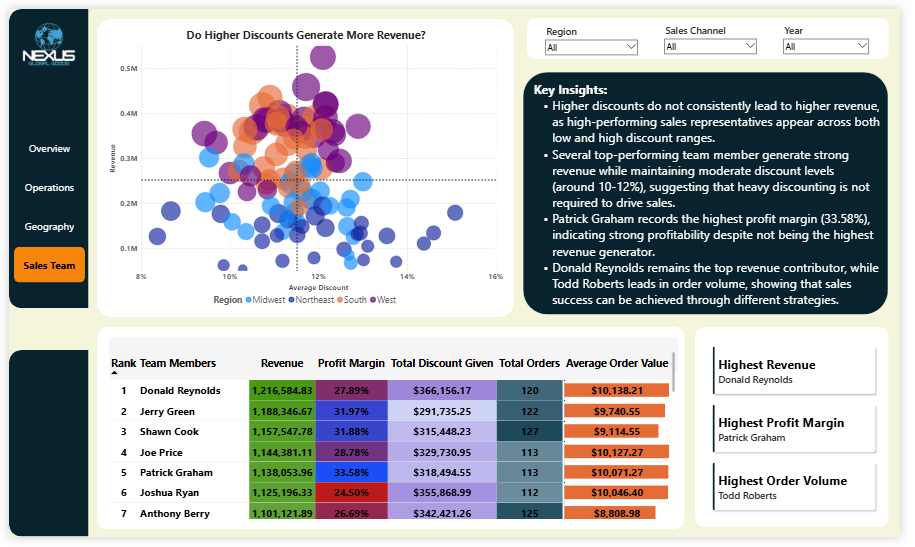

This screenshot's page, from the dashboard's own definition file:
{"tool":"powerbi","page":{"name":"Sales Team","canvas":[2700,1600],"ordinal":3},"visuals":[{"type":"shape","title":"Side Bar","box":[0,1034.5,241.4,565.5],"z":0},{"type":"shape","title":"Side Bar","box":[0,0,241.4,906.9],"z":1000},{"type":"shape","title":"Background","box":[241.4,0,2458.6,1600],"z":2000},{"type":"image","title":"Company Logo","box":[0,0,242.5,240],"z":3000},{"type":"pageNavigator","box":[15,367.5,215,462.5],"z":4000},{"type":"shape","title":"Middle Card","box":[267.7,29,1264.5,903.2],"z":5000},{"type":"scatterChart","title":"Do Higher Discounts Generate More Revenue?","fields":{"Category":["Dim Sales Order._SalesTeamID"],"Series":["Dim Region.Region"],"X":["Metric Measures.Average Discount"],"Y":["Metric Measures.Revenue"],"Size":["Metric Measures.Profit"]},"box":[296.8,54.8,1206.5,851.6],"z":6000},{"type":"shape","title":"Middle Card","box":[267.7,964.5,1780.6,612.9],"z":7000},{"type":"shape","title":"Middle Card","box":[303.2,993.5,1725.8,106.5],"z":8000},{"type":"shape","title":"Middle Card","box":[2077.4,964.5,587.1,606.5],"z":9000},{"type":"tableEx","fields":{"Values":["Metric Measures.Revenue Rank","Dim Sales Team.Sales Team","Metric Measures.Revenue","Metric Measures.Profit Margin","Metric Measures.Total Discount Given","Metric Measures.Total Orders","Metric Measures.Average Order Value"]},"box":[296.8,1032.3,1725.8,516.1],"z":10000},{"type":"cardVisual","fields":{"Data":["Metric Measures.Highest Revenue Member","Metric Measures.Highest Profit Margin","Metric Measures.Highest Order Volume"]},"box":[2103.2,993.5,551.6,554.8],"z":11000},{"type":"shape","title":"Middle Card","box":[1558.1,190.8,1106.5,735.5],"z":12000},{"type":"textbox","box":[1583.3,213.3,1060,713.3],"z":13000},{"type":"shape","title":"Top Card","box":[1568.2,27.6,1096.6,124.1],"z":14000},{"type":"slicer","title":"Year Slicer","fields":{"Values":["Dim Sales Order.Sales Channel"]},"box":[1976.8,37.9,300,103.4],"z":15000},{"type":"slicer","title":"Year Slicer","fields":{"Values":["Dim Date.Year"]},"box":[2337.2,37.9,279.3,103.4],"z":16000},{"type":"slicer","title":"Year Slicer","fields":{"Values":["Dim Region.Region"]},"box":[1616.5,41.4,300,100],"z":17000}]}

Visuals, with their boxes in screenshot pixels (x1, y1, x2, y2), scaled from the page's 2700x1600 canvas onto the 915x547 screenshot:
"Side Bar" shape: [0,354,82,546]
"Side Bar" shape: [0,0,82,310]
"Background" shape: [82,0,914,546]
"Company Logo" image: [0,0,82,82]
pageNavigator: [5,126,78,284]
"Middle Card" shape: [91,10,519,319]
"Do Higher Discounts Generate More Revenue?" scatterChart: [101,19,509,310]
"Middle Card" shape: [91,330,694,539]
"Middle Card" shape: [103,340,688,376]
"Middle Card" shape: [704,330,903,537]
tableEx - Metric Measures.Revenue Rank x Dim Sales Team.Sales Team: [101,353,685,529]
cardVisual - Metric Measures.Highest Revenue Member x Metric Measures.Highest Profit Margin: [713,340,900,529]
"Middle Card" shape: [528,65,903,317]
textbox: [537,73,896,317]
"Top Card" shape: [531,9,903,52]
"Year Slicer" slicer: [670,13,772,48]
"Year Slicer" slicer: [792,13,887,48]
"Year Slicer" slicer: [548,14,649,48]
